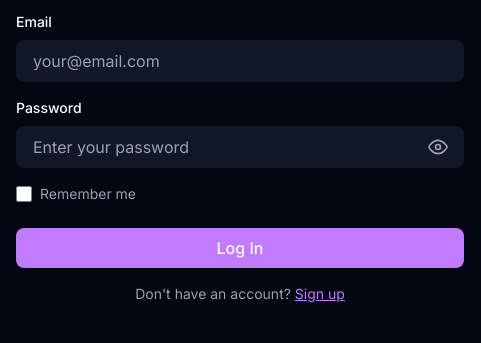
Test: AuthForm › Form Validation › prevents submission with empty password field
Type "test@example.com" into the field labelled "Email" at x=240, y=61, box [16,40,464,82]
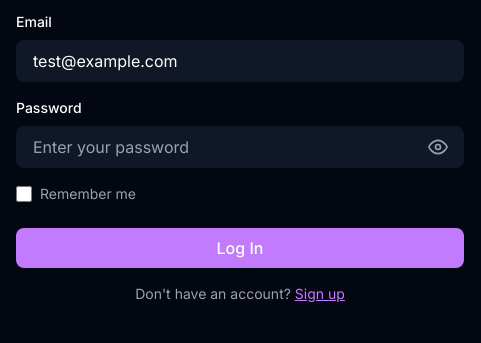
Click the button "Log In" at x=240, y=248, box [16,228,464,268]
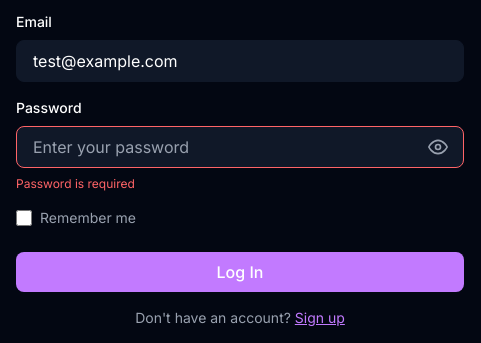
Result: the text "Password is required" is shown at [16,176,135,191]
